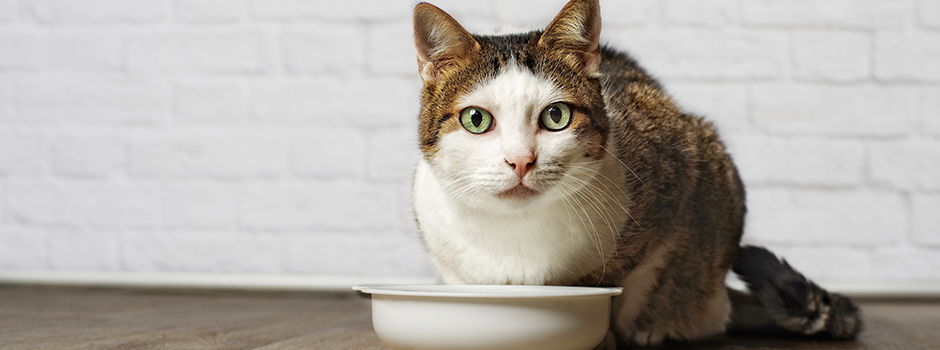cat: (379, 5, 871, 340)
